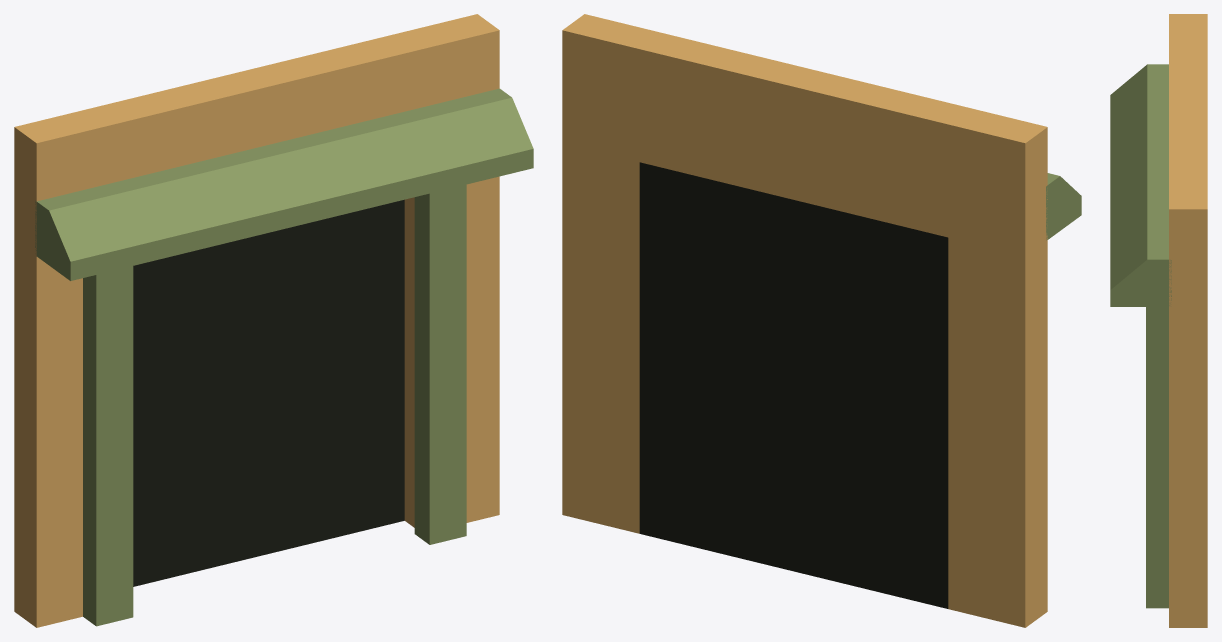
File: SM_Wall_DoorBay_01.fbx
The picture shows the model from 3 angles, left to right: view 1: azimuth 30°, elevation 25°; view 2: azimuth 150°, elevation 25°; view 3: azimuth 270°, elevation 25°; orthographic projection. The views are drawn at different scales.
Visible parts, largest first — view 1: SM_Wall_DoorBay_01; view 2: SM_Wall_DoorBay_01; view 3: SM_Wall_DoorBay_01.
Boxes of the visible parts, x1,y1,x2,y2 form: SM_Wall_DoorBay_01: [14, 14, 533, 627]; SM_Wall_DoorBay_01: [562, 14, 1081, 627]; SM_Wall_DoorBay_01: [1110, 14, 1207, 627].
Size of the model in its own units: 3 by 3 by 0.63.
1 material, 1 textured.
